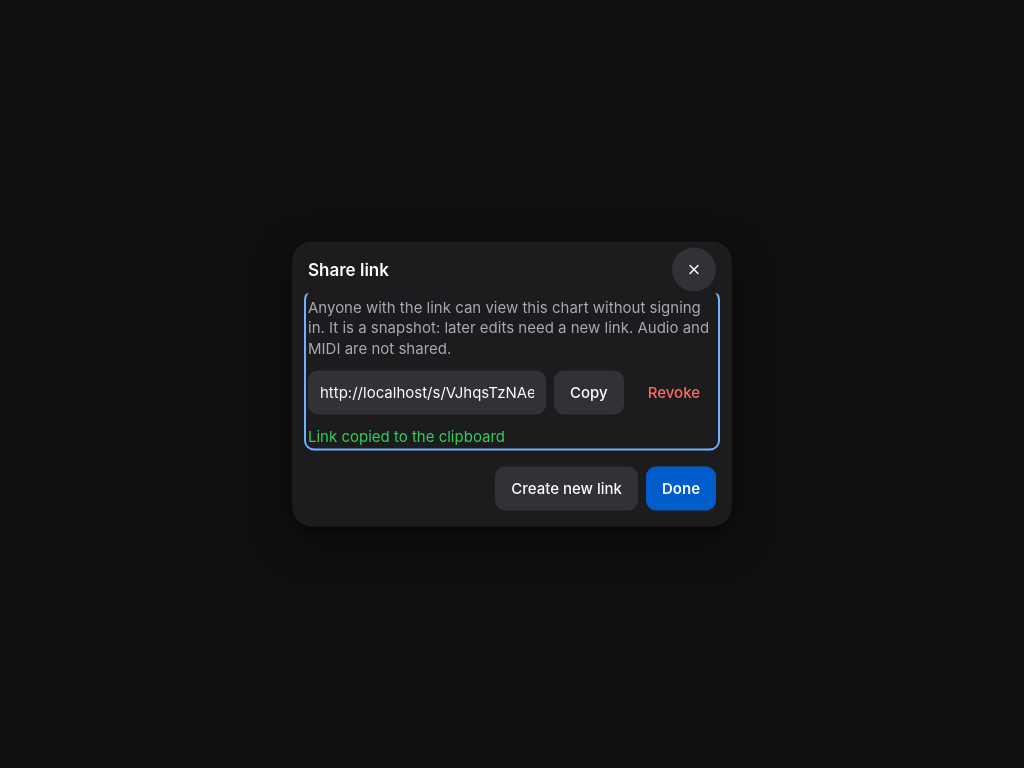
it: ShareDialog › creates a link on open, copies it, shows it and revokes it
This screenshot has width=1024, height=768.
Expected: the text "Link copied to the clipboard" is shown, [308, 426, 505, 445]
Click the button "Revoke" at (674, 392), box [632, 370, 716, 414]
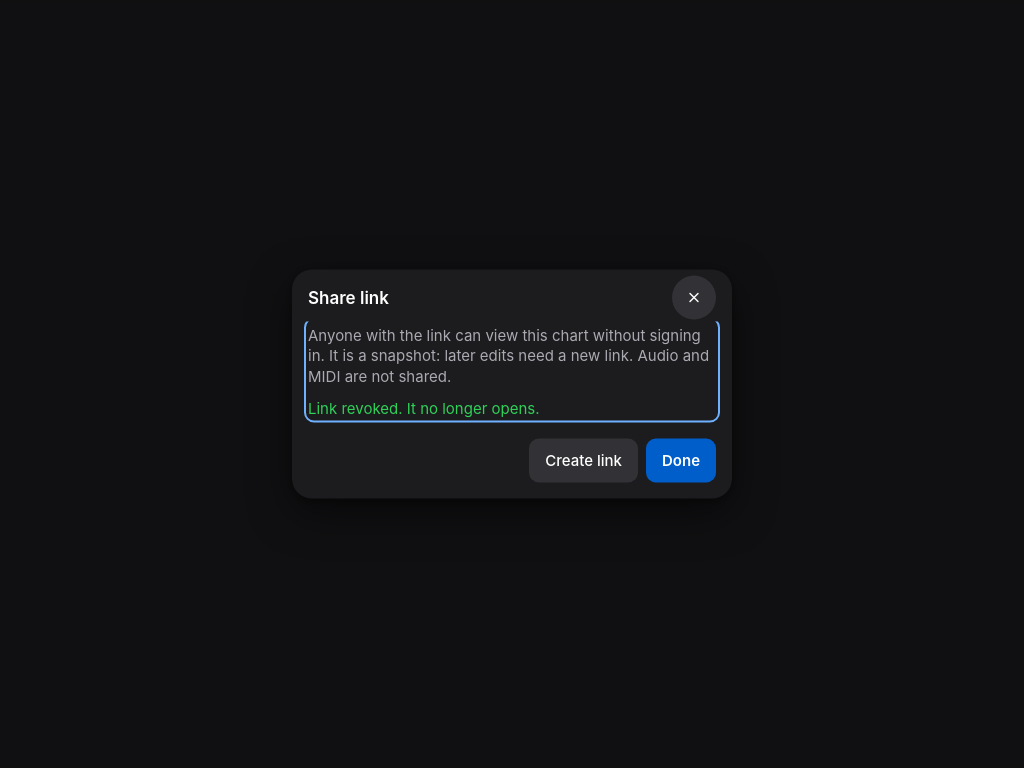
Expected: the text "Link revoked. It no longer opens." is shown, [308, 398, 540, 417]
